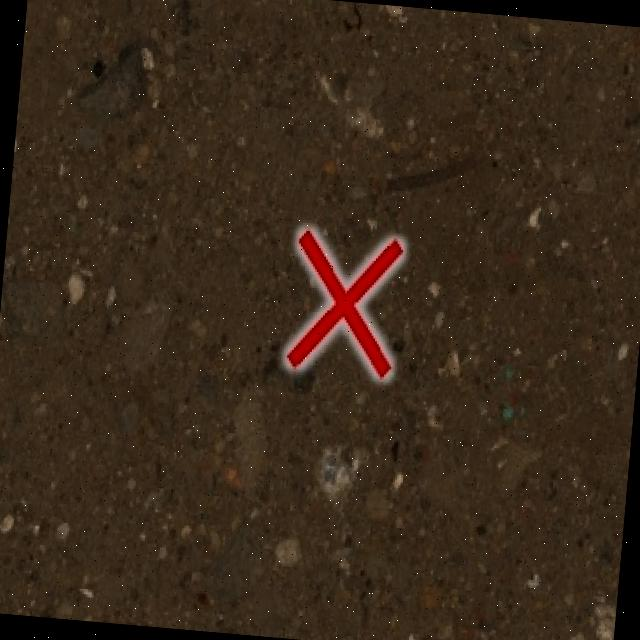x_marker: (284, 228, 402, 376)
